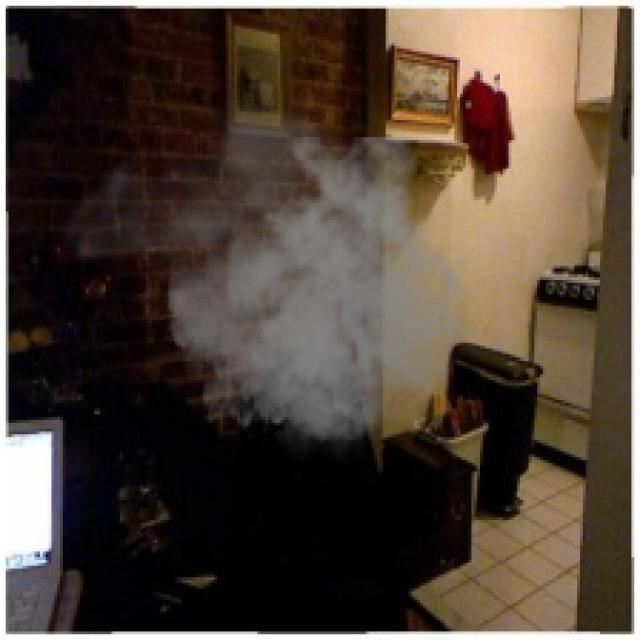smoke: (57, 91, 477, 468)
